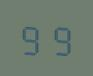nine: (19, 19, 45, 55), (46, 20, 72, 56)
